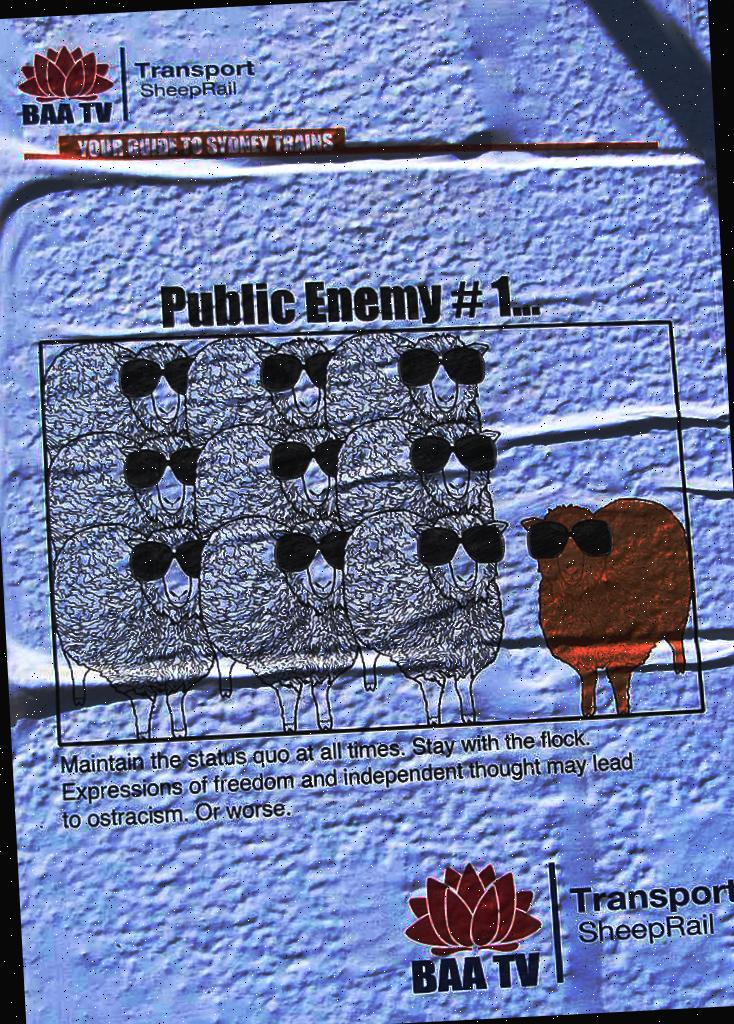Sheep: (508, 494, 699, 724), (332, 511, 518, 731), (190, 512, 370, 736), (48, 520, 220, 742), (41, 432, 224, 564), (326, 405, 515, 531), (36, 333, 204, 468), (328, 325, 506, 426), (197, 424, 353, 534), (186, 337, 338, 437)
